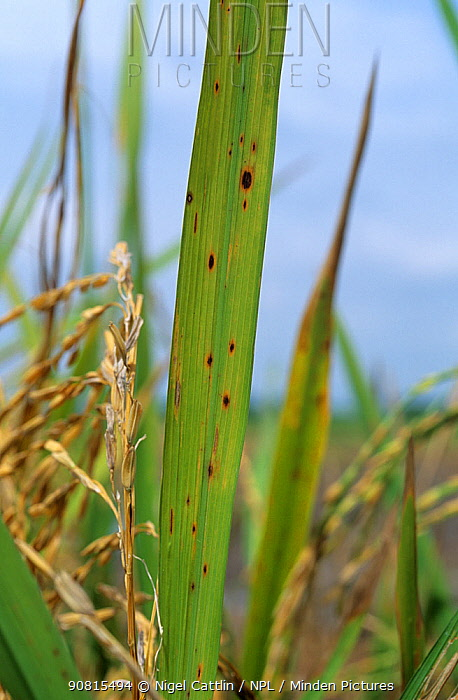Bercak Coklat: (193, 449, 227, 483), (235, 159, 261, 196), (219, 328, 243, 365), (196, 349, 226, 378), (198, 249, 225, 277), (220, 387, 236, 422), (182, 577, 205, 596), (188, 208, 202, 237), (197, 557, 214, 576), (191, 661, 207, 679), (235, 41, 245, 67), (186, 519, 201, 536), (248, 142, 262, 155), (212, 76, 221, 96), (239, 197, 250, 213), (225, 146, 237, 160), (234, 133, 247, 143)
